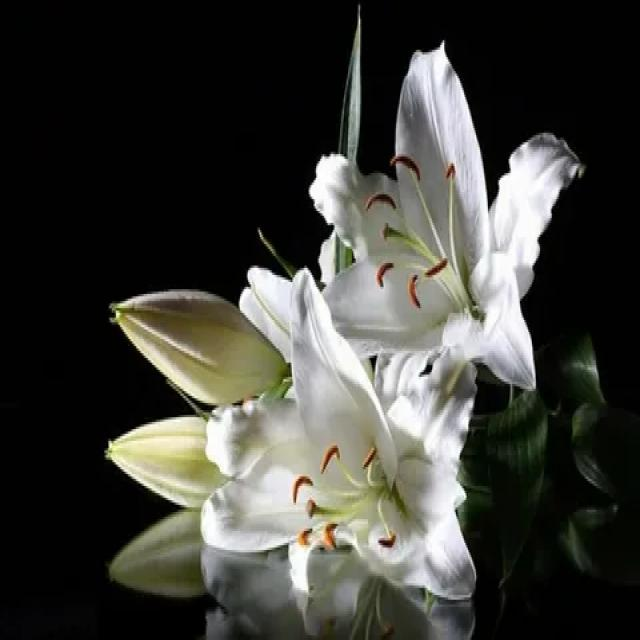lily: (197, 259, 485, 629)
